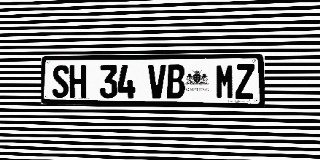3: (100, 65, 117, 98)
4: (118, 64, 135, 98)
B: (167, 64, 185, 99)
H: (69, 65, 86, 98)
M: (216, 64, 234, 99)
S: (52, 65, 69, 98)
V: (148, 64, 166, 99)
Z: (235, 64, 254, 99)
